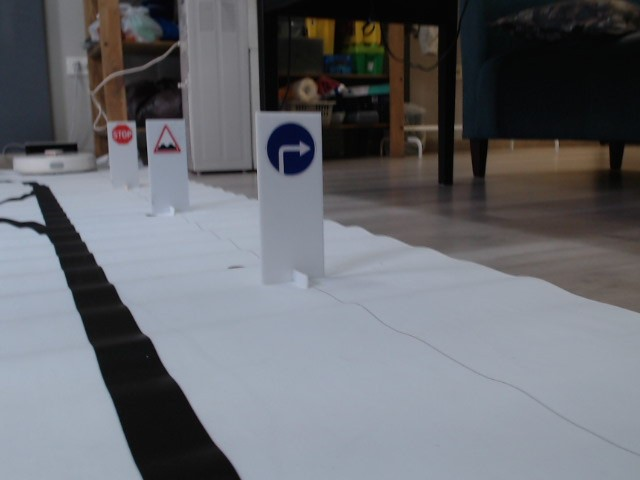Nerov: (153, 124, 180, 153)
Right: (264, 120, 316, 175)
Stop: (112, 123, 133, 145)
